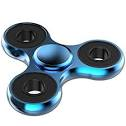fidget_spinner: (2, 2, 125, 115)
